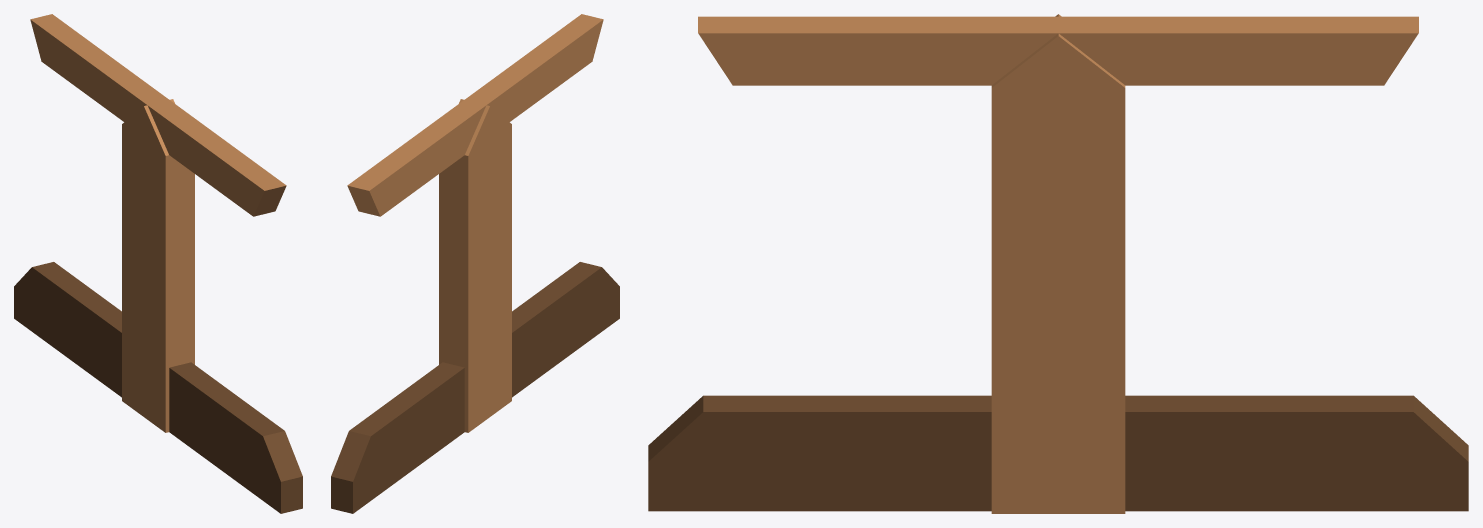
The model's file is Table_Leg.fbx.
3 renders of one model, left to right at view 1: azimuth 30°, elevation 25°; view 2: azimuth 150°, elevation 25°; view 3: azimuth 270°, elevation 25°, orthographic. The views are drawn at different scales.
Parts seen in each view (by area): view 1: Table_T-Leg_2; view 2: Table_T-Leg_2; view 3: Table_T-Leg_2.
Part boxes in pixels (left/top/right/bottom): Table_T-Leg_2: left=14, top=14, right=302, bottom=513; Table_T-Leg_2: left=331, top=14, right=619, bottom=513; Table_T-Leg_2: left=648, top=14, right=1468, bottom=513.
Bounding box in the file's own units: 5.42 × 55.05 × 85.61.
